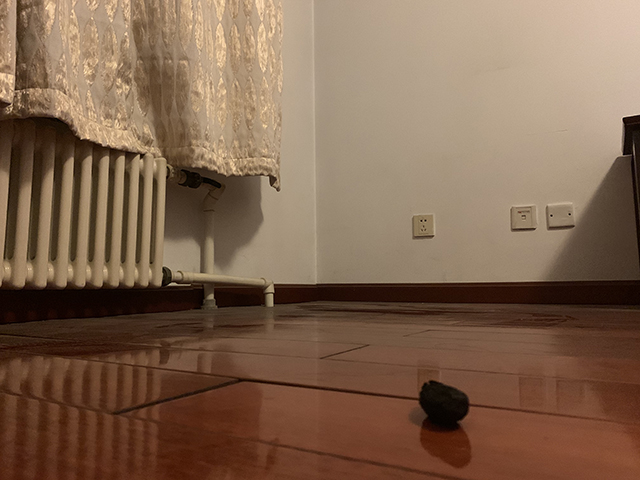curtain: (1, 1, 286, 189)
feces: (418, 379, 472, 425)
